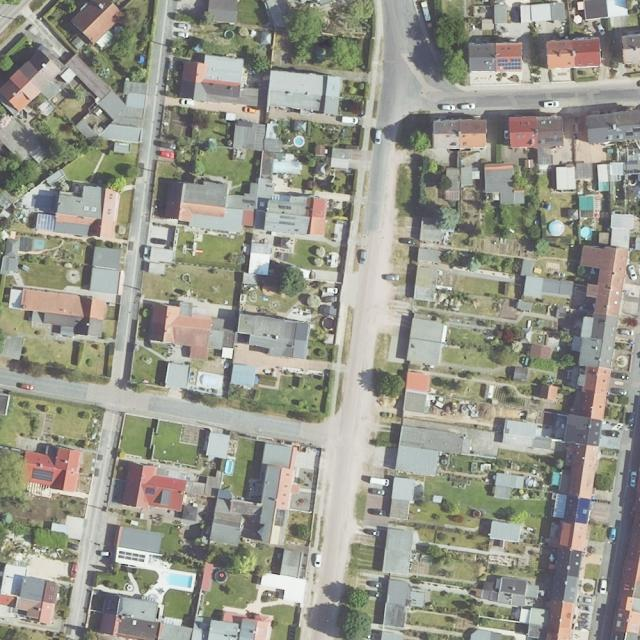PV: (497, 57, 520, 70), (31, 468, 54, 481)
ST: (546, 137, 563, 142), (146, 488, 155, 495), (625, 131, 633, 136), (633, 127, 639, 132)
